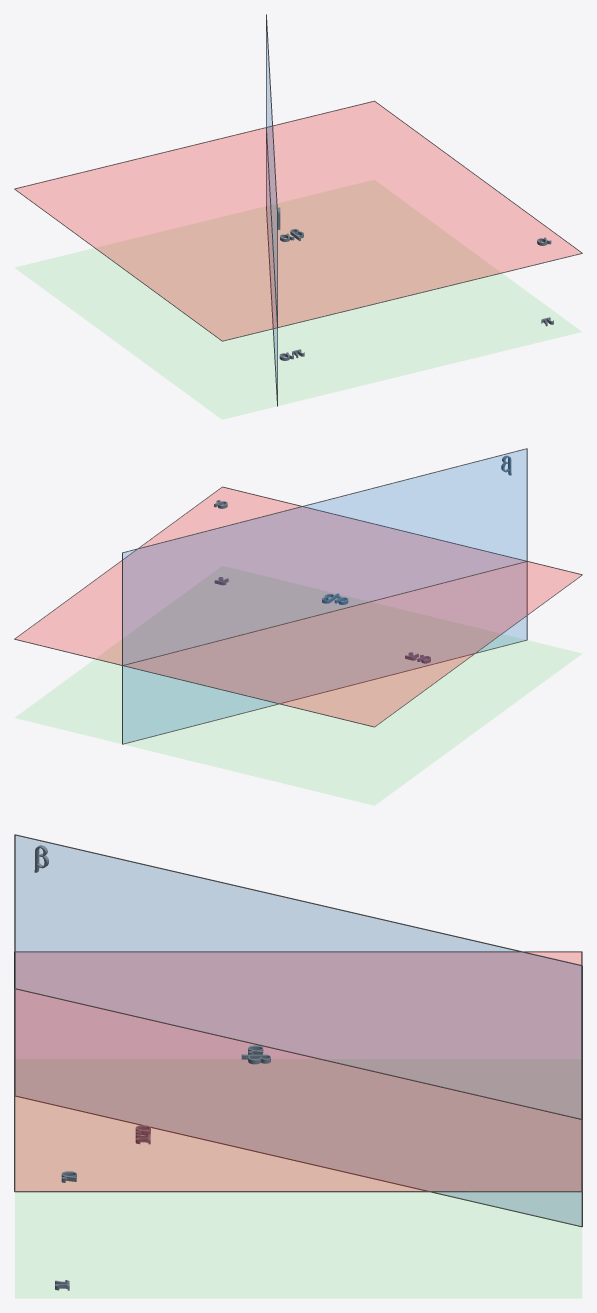
The model's file is int_pv_phN.glb.
3 views of the same model, one above another, from view 1: azimuth 30°, elevation 25°; view 2: azimuth 150°, elevation 25°; view 3: azimuth 270°, elevation 25° (orthographic). The views are drawn at different scales.
Parts seen in each view (by area): view 1: root, Pipe#1 (×2); view 2: root, Pipe (×2), Pipe#1 (×2), Pipe#2; view 3: root, Pipe#1 (×2), Pipe (×2), Pipe#2.
Part boxes in pixels (box(x1,y1,x2,y2)): root: box(15, 32, 581, 419); Pipe#1 (×2): box(14, 100, 582, 341); root: box(15, 449, 581, 805); Pipe (×2): box(122, 561, 527, 744); Pipe#1 (×2): box(14, 486, 582, 727); Pipe#2: box(122, 448, 527, 552); root: box(15, 836, 581, 1298); Pipe#1 (×2): box(14, 951, 581, 1192); Pipe (×2): box(15, 988, 581, 1227); Pipe#2: box(14, 834, 582, 965).
Size of the model in its own units: 2.55 by 1.3 by 2.55.
